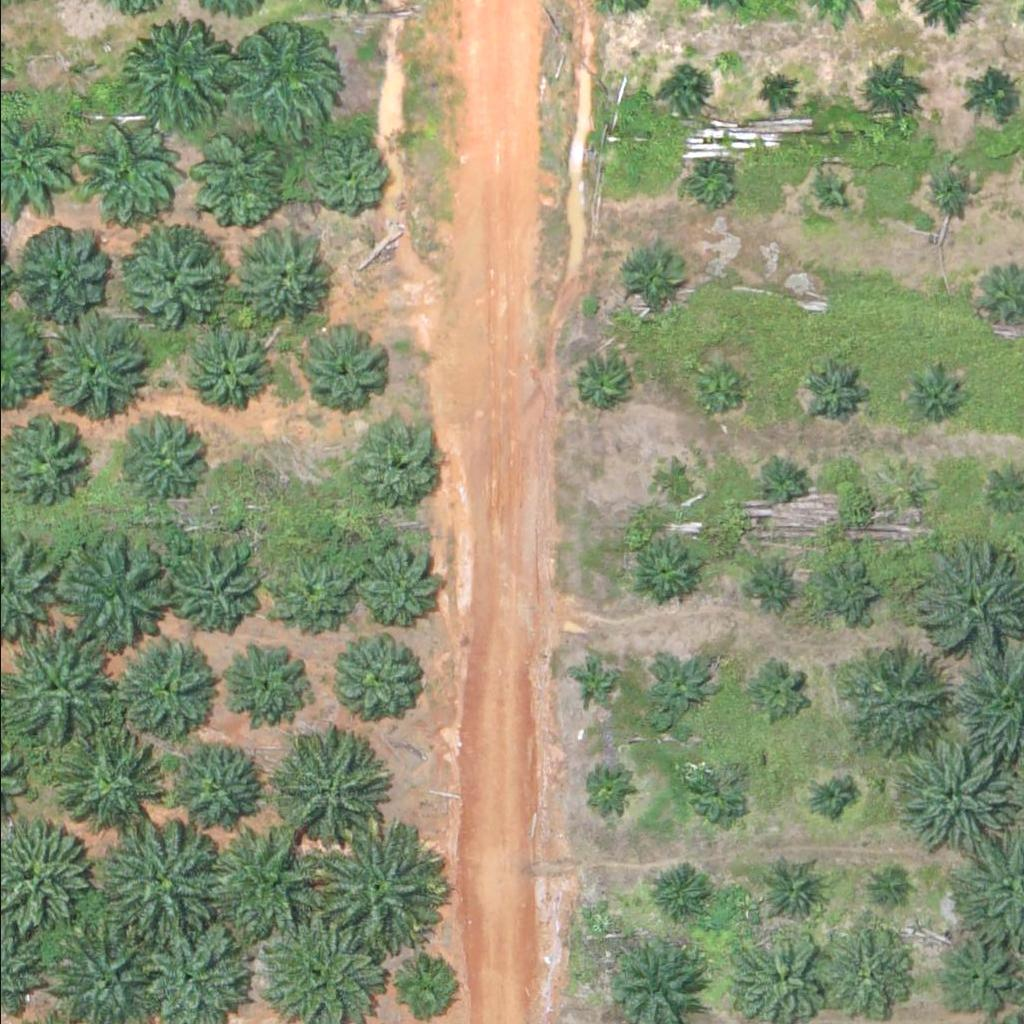Kelapa_Sawit: (306, 826, 432, 951), (218, 20, 344, 145), (50, 722, 164, 835), (201, 829, 314, 942), (100, 820, 213, 933), (898, 735, 1011, 848), (841, 639, 954, 752), (53, 533, 167, 645), (38, 308, 151, 420), (110, 225, 223, 337), (170, 744, 271, 844), (326, 628, 427, 728), (106, 404, 207, 504), (230, 227, 331, 327), (76, 129, 177, 229), (125, 32, 226, 132), (273, 739, 373, 839), (117, 641, 217, 741), (164, 537, 264, 637), (11, 223, 111, 323), (199, 133, 299, 233), (223, 635, 311, 723), (354, 417, 442, 505), (183, 320, 271, 408), (825, 928, 913, 1016), (268, 555, 356, 642), (351, 543, 439, 630), (294, 330, 382, 417), (298, 134, 386, 221), (616, 244, 692, 319), (934, 934, 1010, 1009), (627, 533, 702, 608), (645, 649, 720, 724), (906, 361, 969, 424), (801, 361, 864, 424), (569, 354, 632, 417), (642, 862, 705, 925), (395, 959, 458, 1022), (687, 757, 750, 820), (687, 354, 750, 417), (860, 64, 923, 126), (960, 63, 1023, 125), (814, 561, 877, 623), (745, 665, 808, 727), (577, 763, 628, 813), (748, 567, 799, 617), (568, 656, 619, 706), (891, 464, 942, 514), (762, 454, 813, 504), (655, 64, 705, 114), (688, 164, 738, 214), (770, 865, 820, 915), (647, 458, 697, 508), (929, 166, 979, 216), (871, 873, 909, 911), (805, 173, 843, 211), (809, 778, 847, 815), (754, 68, 792, 105)
